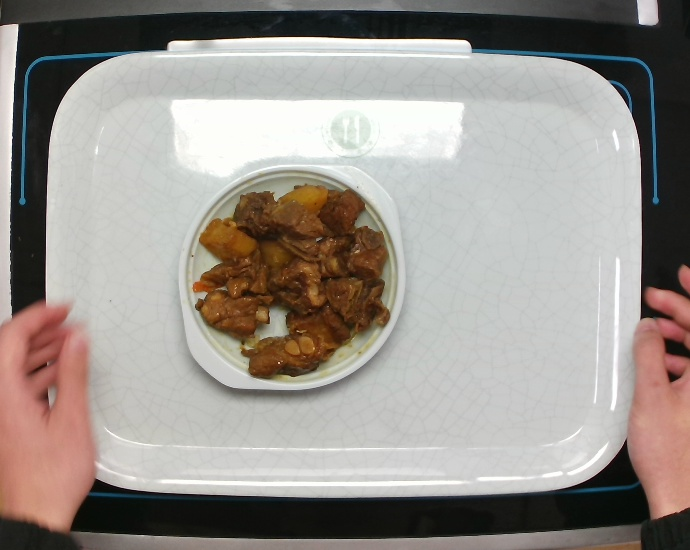JYsf-Shuang_Er_Pan: (177, 158, 412, 393)
